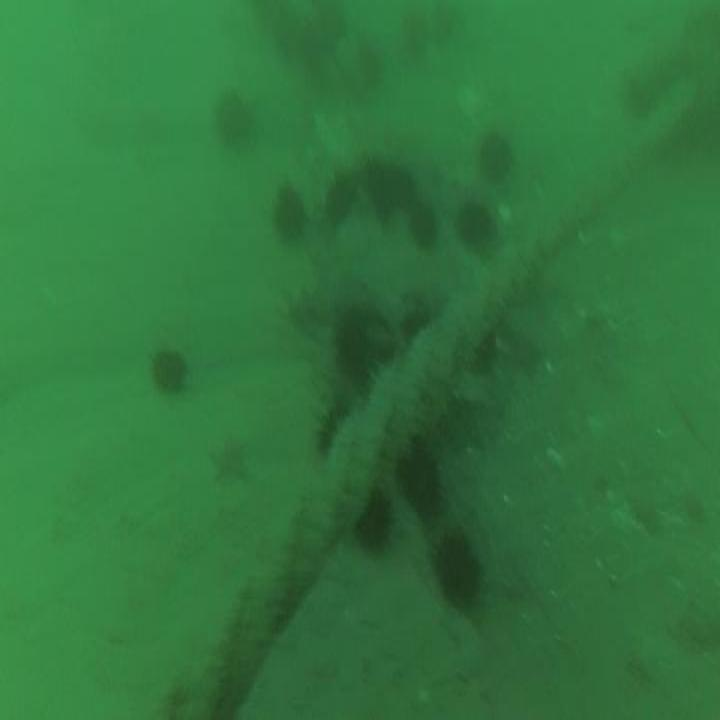echinus: (424, 521, 490, 619), (330, 297, 400, 382), (396, 436, 451, 534), (351, 482, 398, 569), (359, 146, 400, 231), (143, 334, 193, 402), (208, 87, 252, 151), (269, 178, 311, 245), (321, 164, 360, 234), (477, 128, 519, 192), (311, 393, 352, 457), (453, 192, 495, 254), (405, 192, 443, 256)
starfish: (206, 427, 252, 494)
